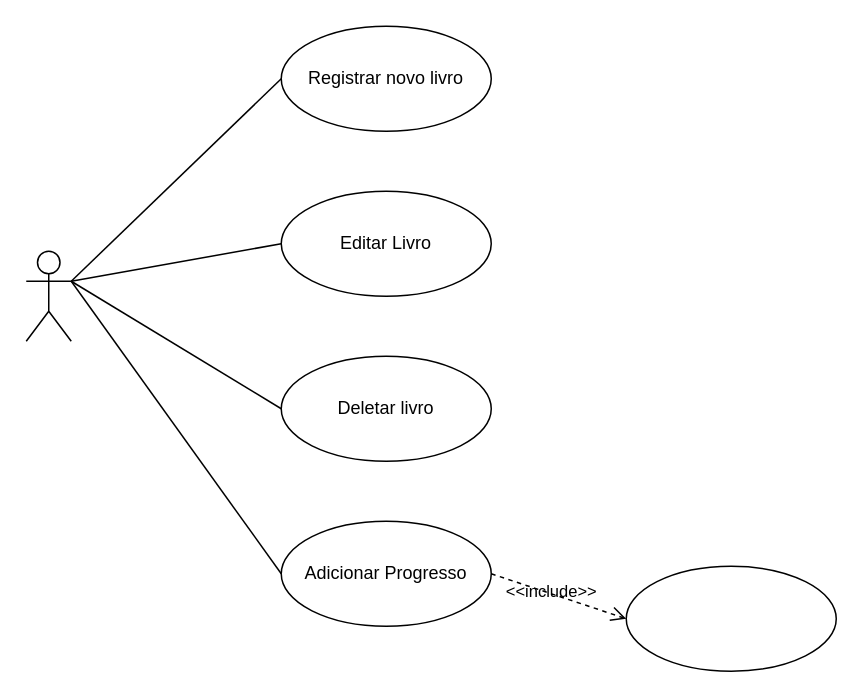
Image size: 863x698. Some labels were removed from this diagram. Here are the shapes that lost their labels. From the top down, the centre of each, then its label:
At (48,295): "User".
At (730,618): "Adicionar Resumo diário".
